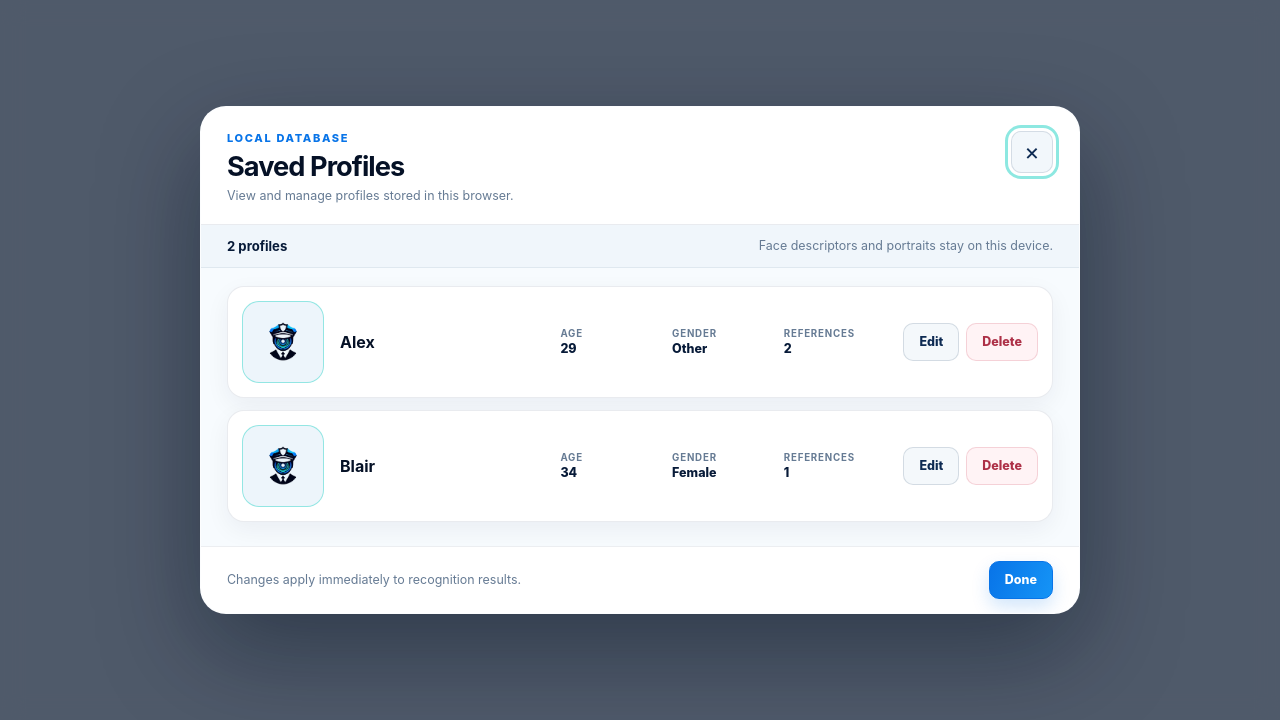
restores profile metadata when the saved portrait cannot be deleted
Click the button with aria-label "Delete Alex" at (1002, 342), box [966,323,1038,361]
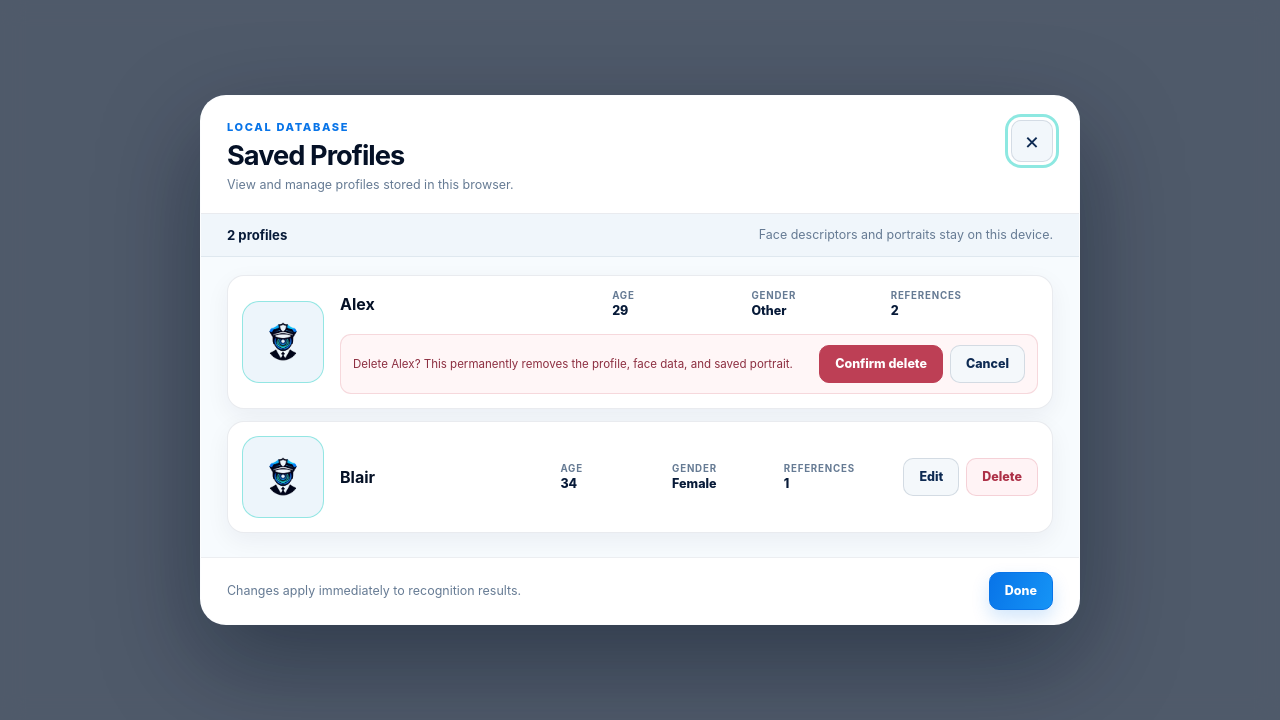
Click the button "Confirm delete" at (881, 364), box [819,345,943,383]
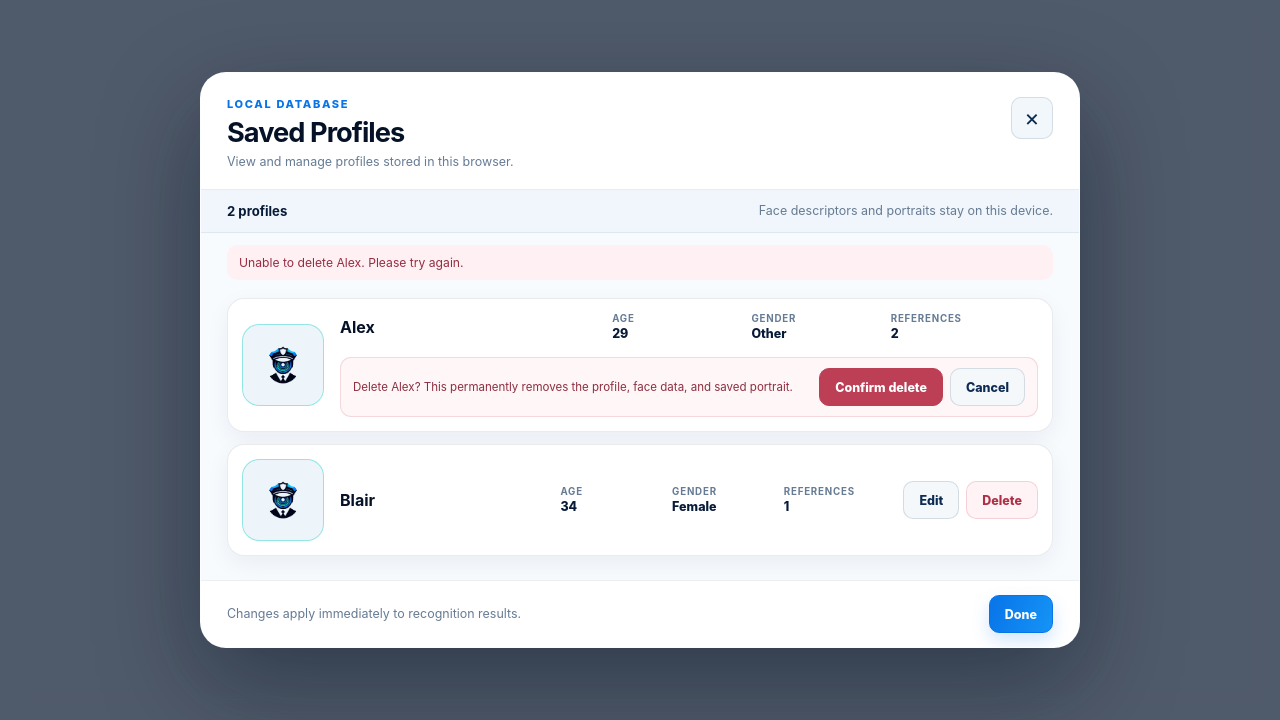
Expected: the heading "Alex" is shown, [340,317,375,337]
Result: the message reads "Unable to delete Alex. Please try again." at [239,255,464,270]
